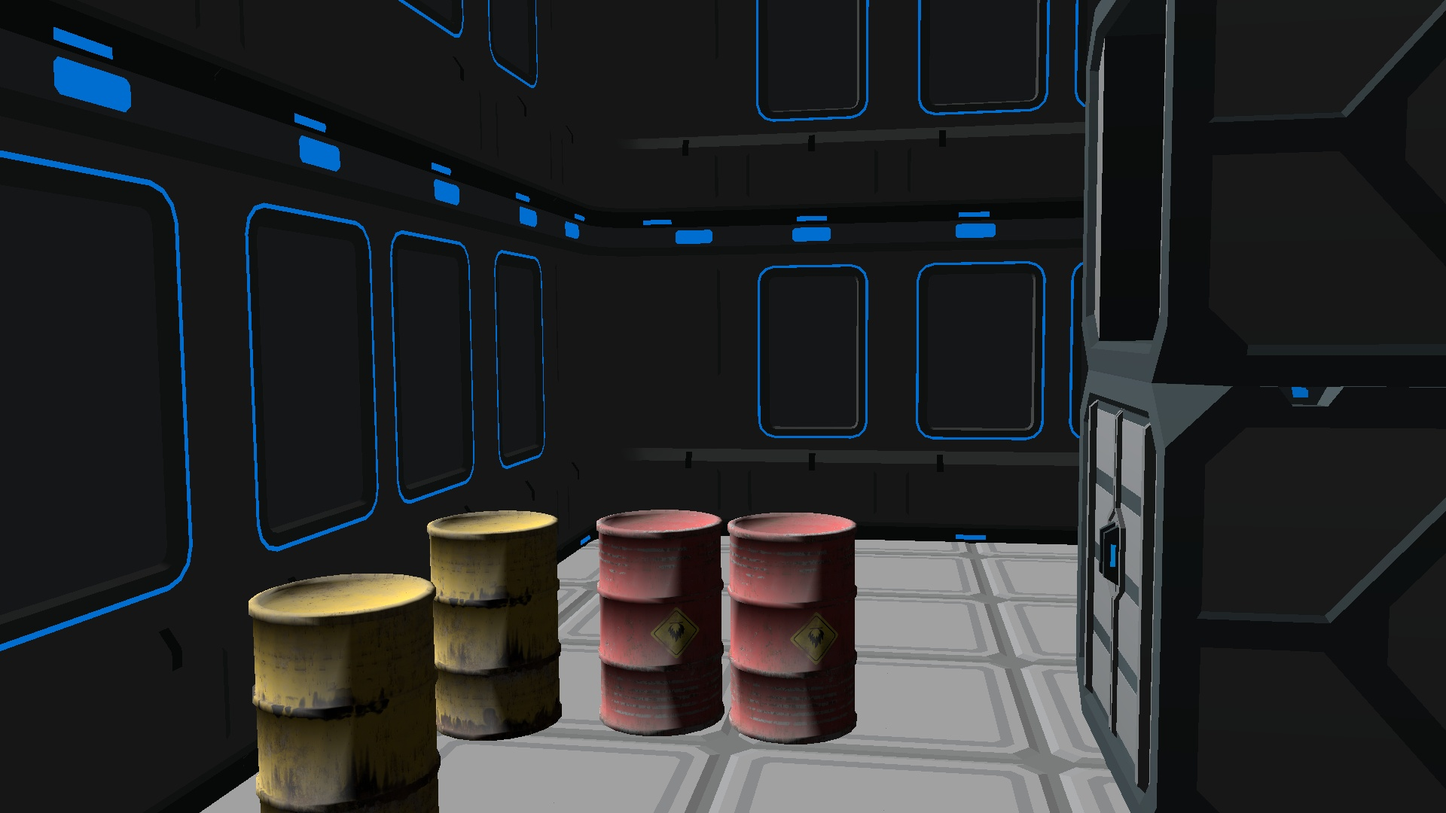toxic barrel: (247, 572, 441, 813), (426, 510, 562, 741), (727, 512, 858, 745), (596, 510, 725, 737)
